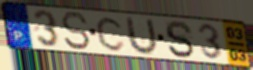3: (31, 9, 61, 49), (197, 23, 224, 62)
C: (95, 15, 127, 53)
S: (59, 11, 92, 52), (164, 19, 197, 60)
U: (125, 15, 159, 57)
